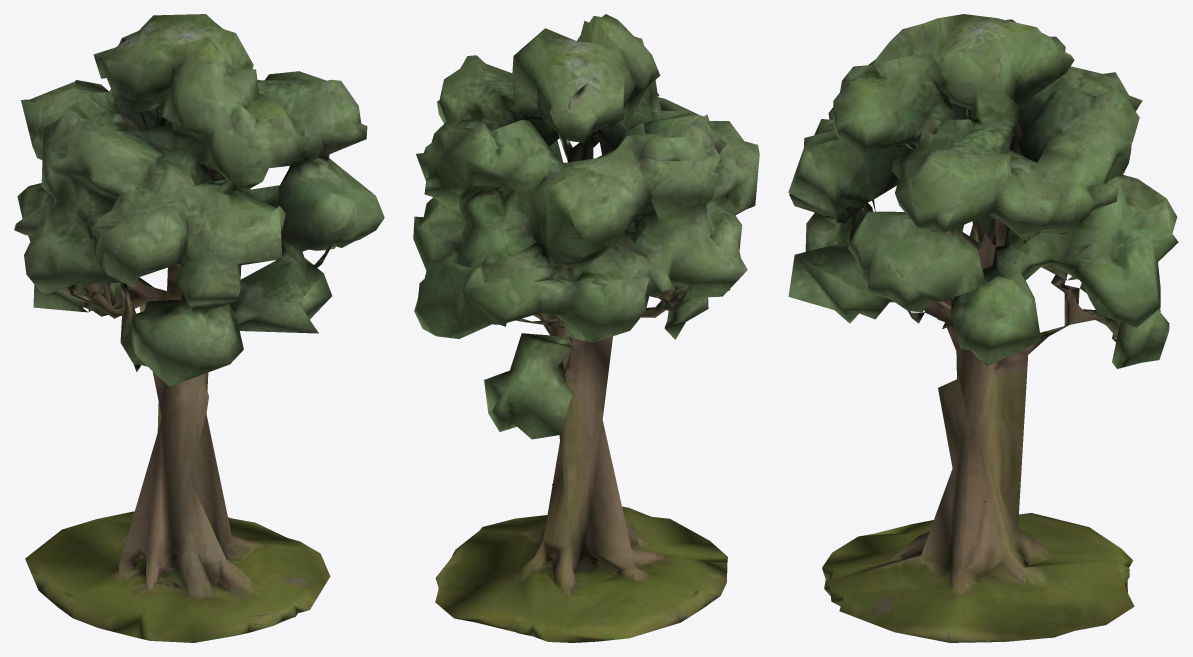
File: tree-3-opt.glb
3 views of the same model, side by side, from view 1: azimuth 30°, elevation 25°; view 2: azimuth 150°, elevation 25°; view 3: azimuth 270°, elevation 25° (orthographic). The views are drawn at different scales.
Bounding box in the file's own units: 1.16 × 1.9 × 1.18.
Materials: 1 (1 with a texture image).
